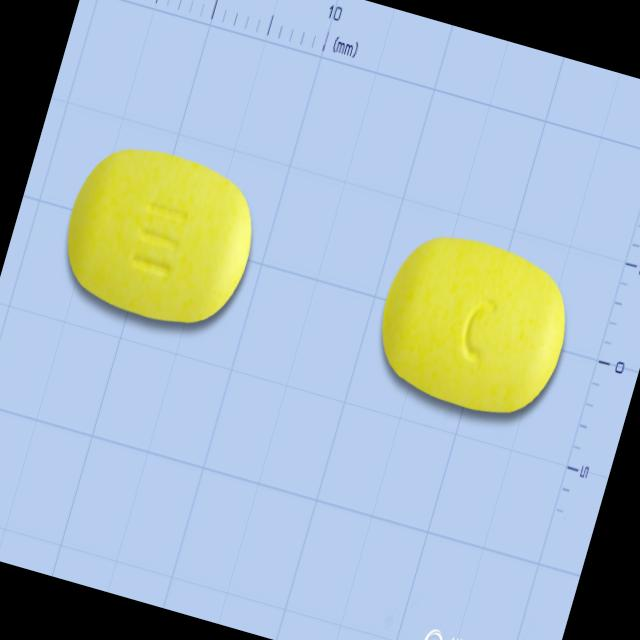Clararoxin: (46, 125, 276, 346), (360, 218, 590, 435)
